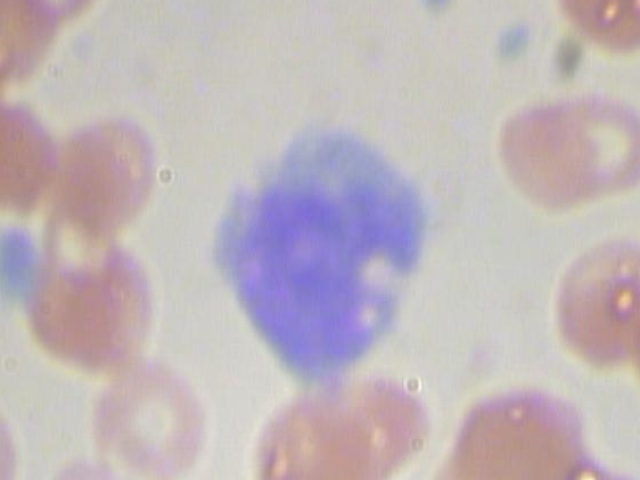Platelets: (484, 10, 537, 64), (0, 223, 35, 276), (414, 0, 467, 18)
RBC: (454, 87, 607, 229), (46, 93, 200, 234), (17, 231, 170, 372), (529, 220, 640, 373), (305, 366, 449, 480), (86, 358, 212, 480), (455, 363, 584, 480), (217, 376, 361, 480), (526, 75, 640, 202), (0, 90, 69, 226), (539, 0, 640, 64), (36, 429, 162, 480), (0, 378, 30, 480), (227, 469, 369, 480)
WBC: (202, 105, 449, 392)
